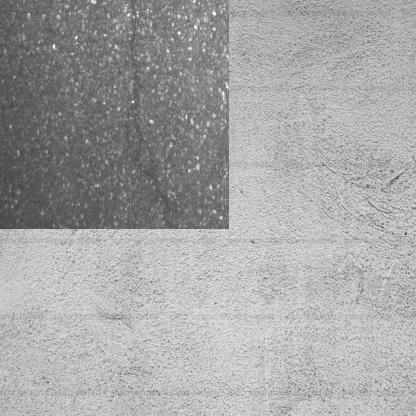Cracks: (118, 9, 177, 203)
